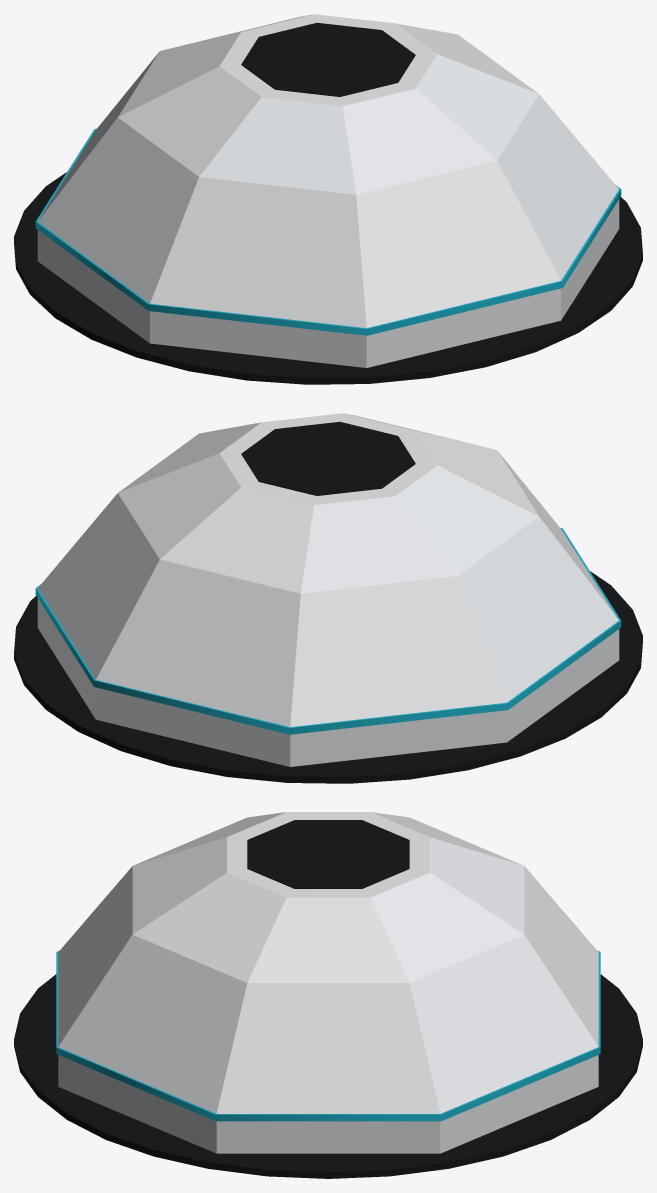
Rendered from c3_feeder.obj.
3 renders of one model, top to bottom at view 1: azimuth 30°, elevation 25°; view 2: azimuth 150°, elevation 25°; view 3: azimuth 270°, elevation 25°, orthographic.
Parts seen in each view (by area): view 1: c3_feeder; view 2: c3_feeder; view 3: c3_feeder.
Boxes of the visible parts, x1,y1,x2,y2 form: c3_feeder: (14,14,642,384); c3_feeder: (14,413,642,783); c3_feeder: (14,812,642,1178).
Bounding box in the file's own units: 1.72 × 0.579 × 1.72.
